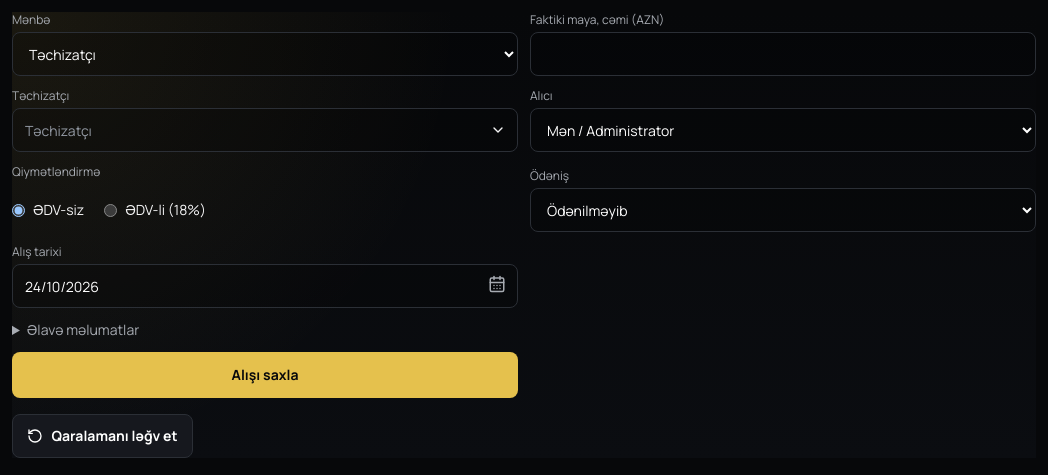
intake notes and date inputs › only requires an employee when the buyer is a worker
This screenshot has width=1048, height=475.
Expected: the dropdown labelled "Alan işçi" is not shown
Select "İşçi" in the dropdown labelled "Alıcı": (783, 130) [530,108,1036,152]
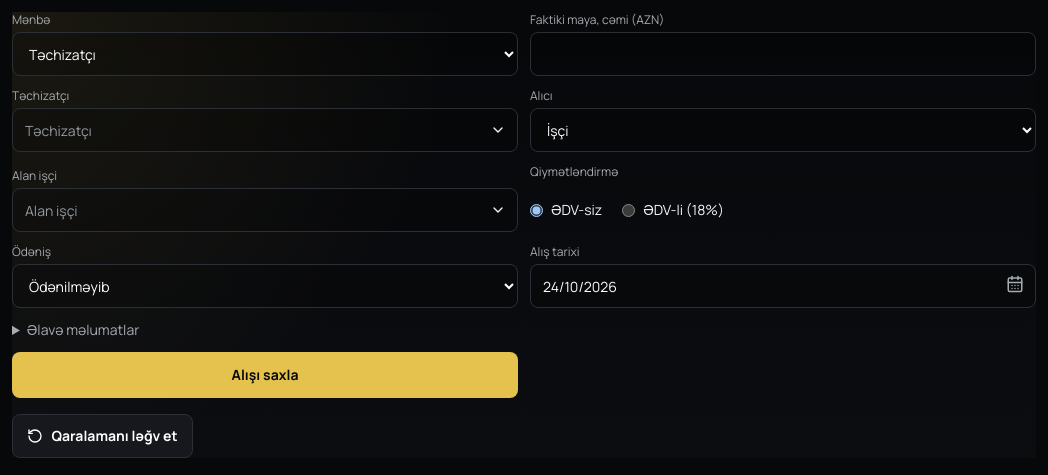
Select "Mən / Administrator" in the dropdown labelled "Alıcı": (783, 130) [530,108,1036,152]
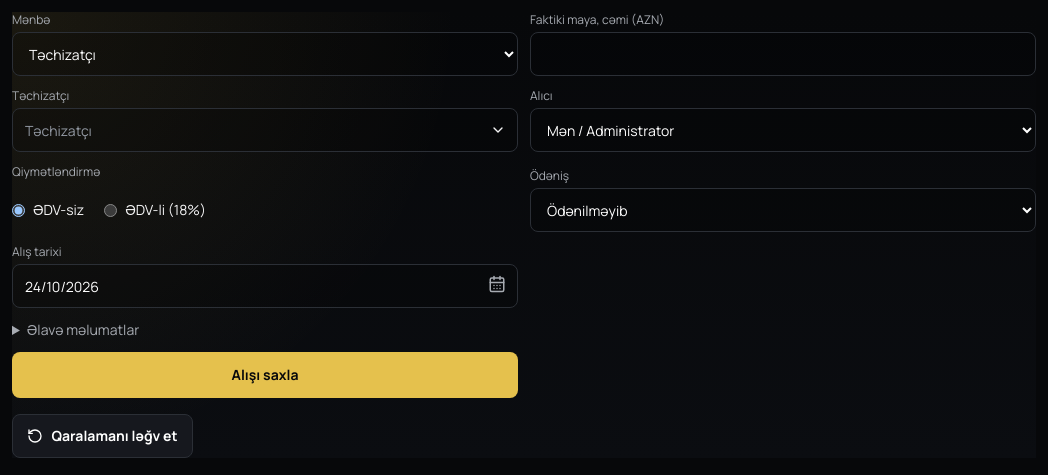
Now the label "Alan işçi" is gone
